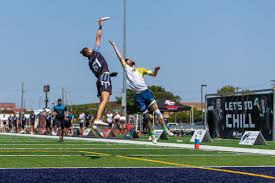disc: (96, 15, 113, 24)
